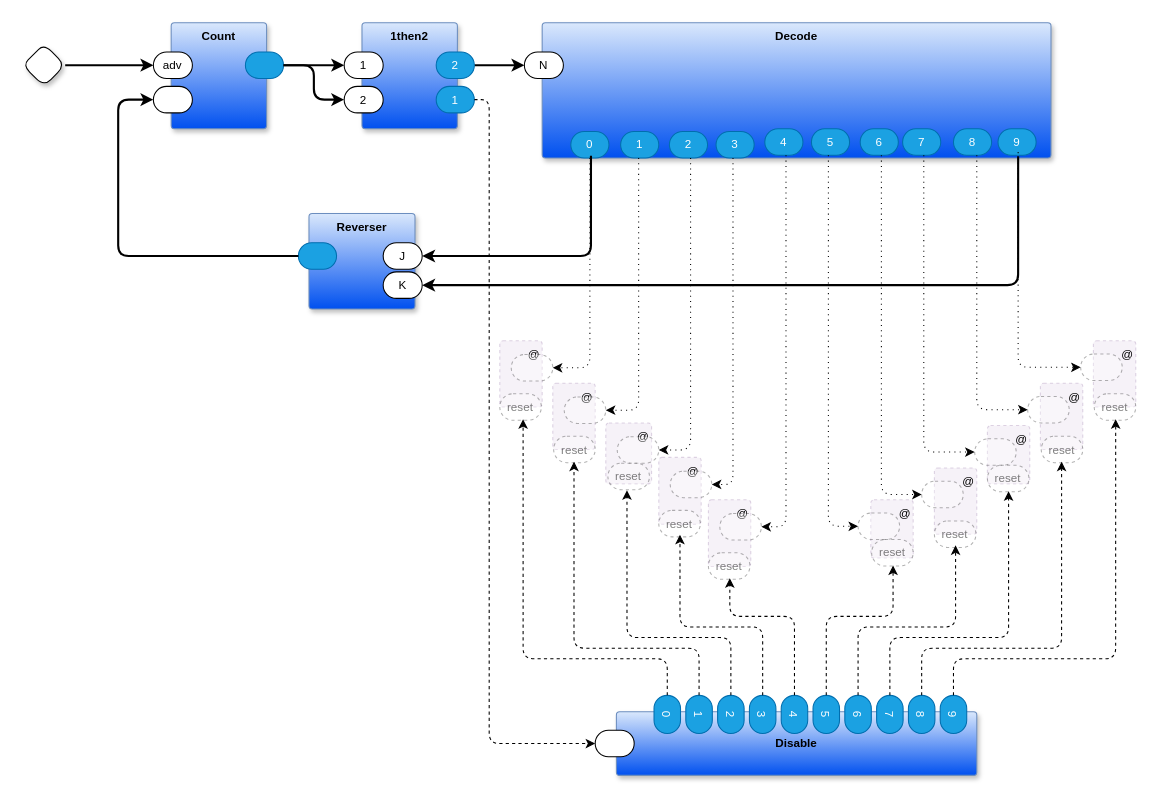
Some shapes in this 1154 by 801 pixel diagram are drawn without their labels. Here are the shapes that lost their labels. From the top down, the centre of each, then its label:
[44,66]: tick
[172,99]: rev
